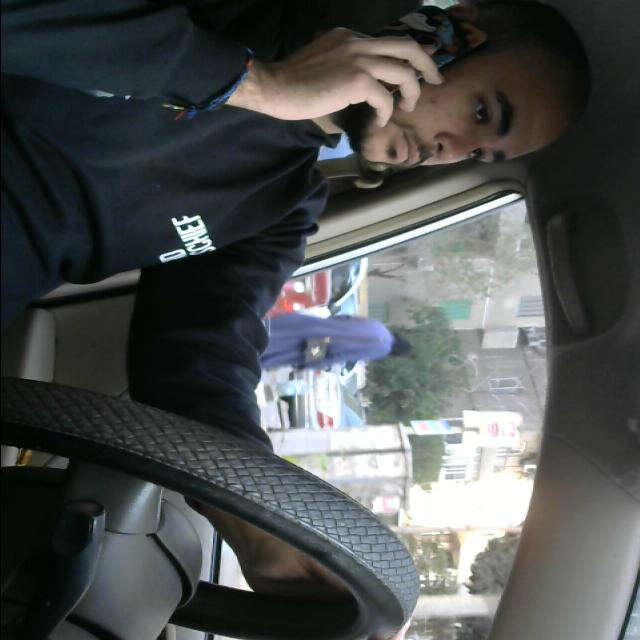mobile use: (327, 13, 495, 108)
